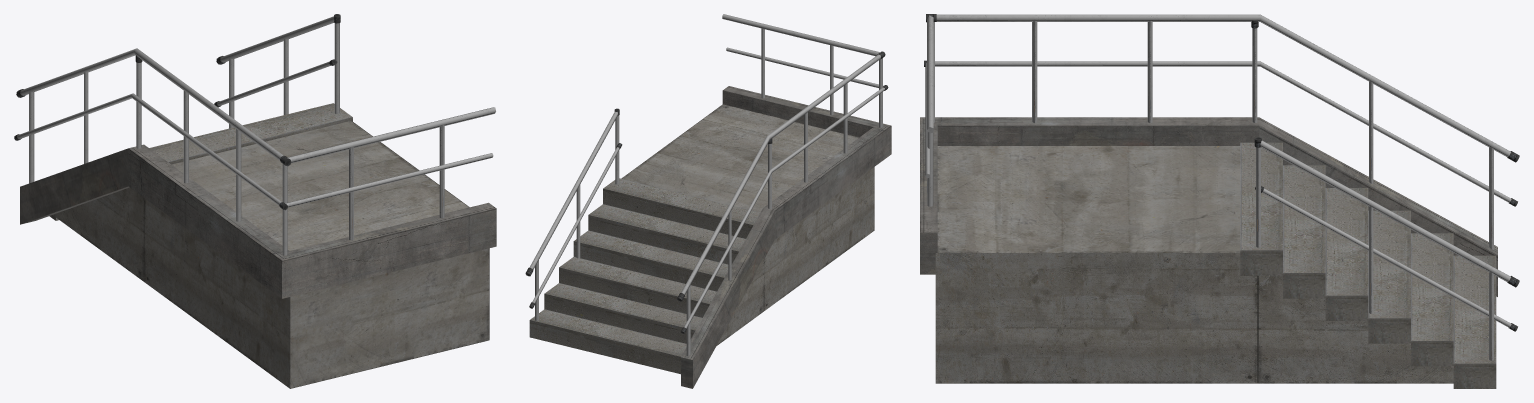
Rendered from CP_Porch_01.fbx.
3 views of the same model, side by side, from view 1: azimuth 30°, elevation 25°; view 2: azimuth 150°, elevation 25°; view 3: azimuth 270°, elevation 25° (orthographic). The views are drawn at different scales.
Parts seen in each view (by area): view 1: CP_Porch_01_LOD0; view 2: CP_Porch_01_LOD0; view 3: CP_Porch_01_LOD0.
Boxes of the visible parts, x1,y1,x2,y2 form: CP_Porch_01_LOD0: [14, 14, 496, 388]; CP_Porch_01_LOD0: [525, 14, 891, 388]; CP_Porch_01_LOD0: [920, 14, 1519, 388].
Size of what is drawn, in the model's own units: 192 by 214 by 416.
